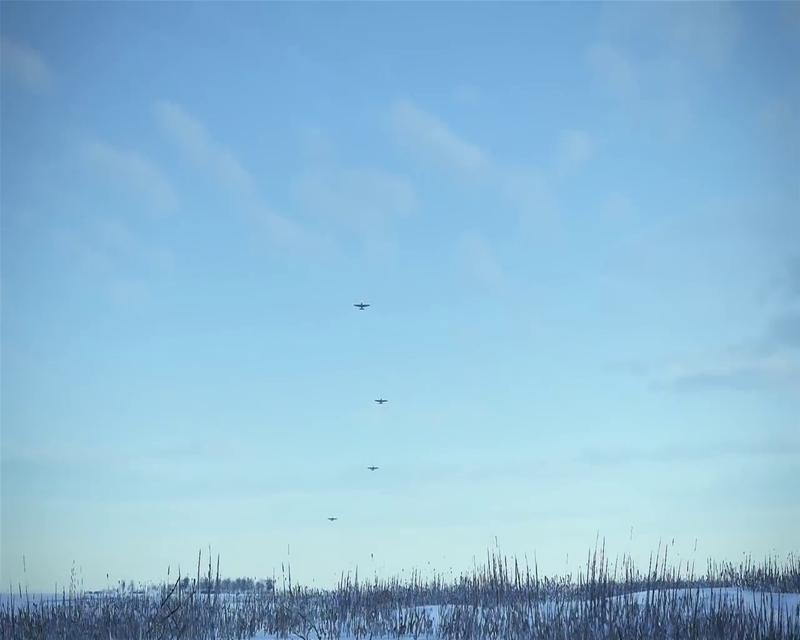UAV: (355, 300, 370, 310), (374, 397, 388, 405), (368, 464, 378, 471)
